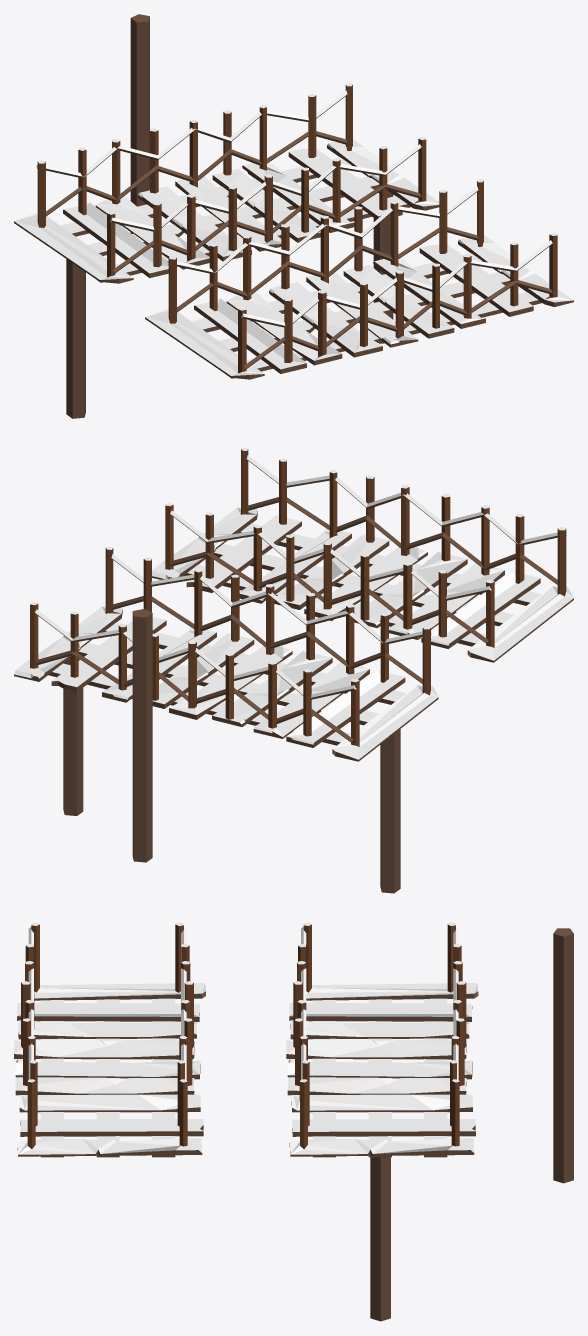
File: Bridge.fbx
3 views of the same model, one above another, from view 1: azimuth 30°, elevation 25°; view 2: azimuth 150°, elevation 25°; view 3: azimuth 270°, elevation 25° (orthographic). The views are drawn at different scales.
Parts seen in each view (by area): view 1: Bridge_Support, Bridge, Support; view 2: Bridge_Support, Bridge, Support; view 3: Bridge_Support, Bridge, Support.
Boxes of the visible parts, left/top/right/bottom form: Bridge_Support: left=14, top=83, right=439, bottom=418; Bridge: left=145, top=179, right=573, bottom=379; Support: left=130, top=14, right=149, bottom=233; Bridge_Support: left=14, top=546, right=438, bottom=893; Bridge: left=152, top=447, right=573, bottom=662; Support: left=132, top=609, right=152, bottom=862; Bridge_Support: left=286, top=922, right=478, bottom=1321; Bridge: left=14, top=922, right=205, bottom=1157; Support: left=553, top=928, right=573, bottom=1183.
Bounding box in the file's own units: 448 × 372 × 617.
